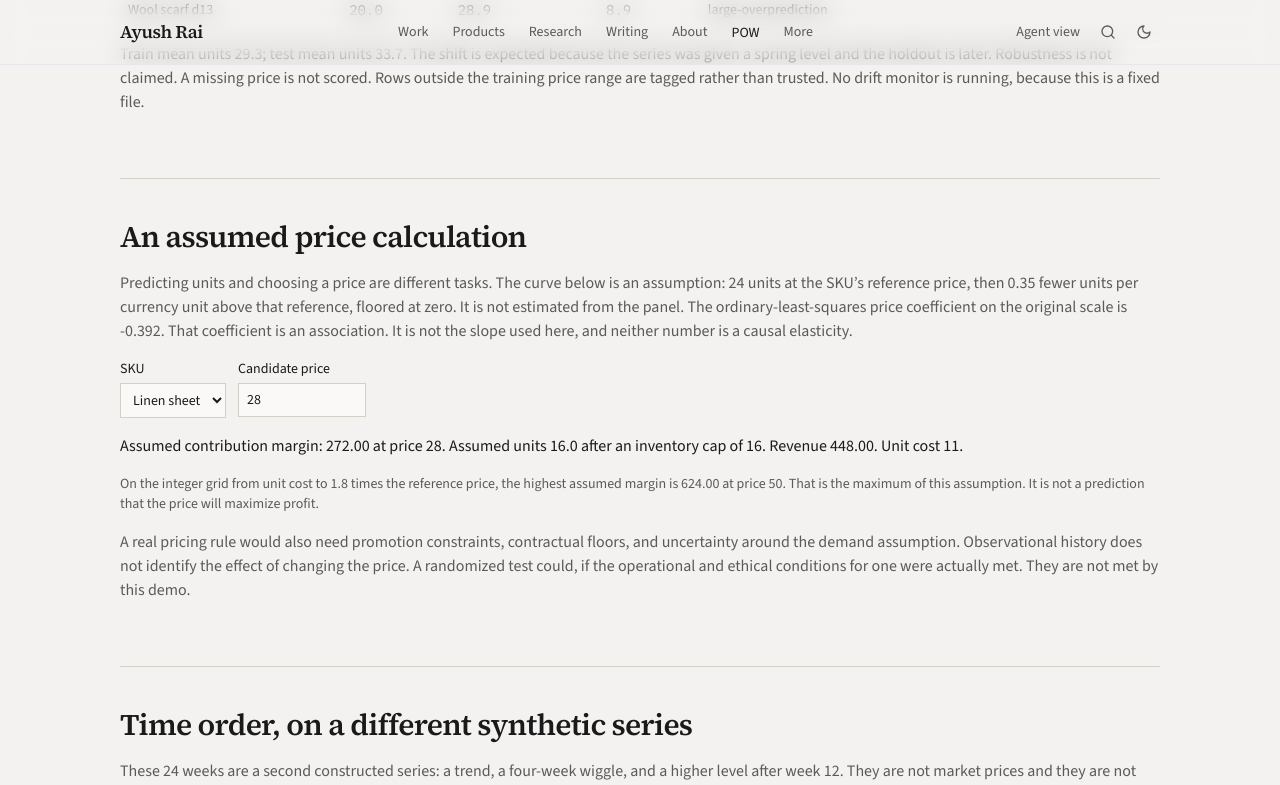
Scenario: AI data scientist page › renders the workbench, links the series, and recalculates the assumed margin
(page scrolled)
expect the text "Assumed contribution margin:" shows "272.00": met, box x1=326 y1=435 x2=370 y2=456
Replace the text in the number field labelled "Candidate price" with "40" at [302, 400], box x1=238 y1=383 x2=366 y2=417
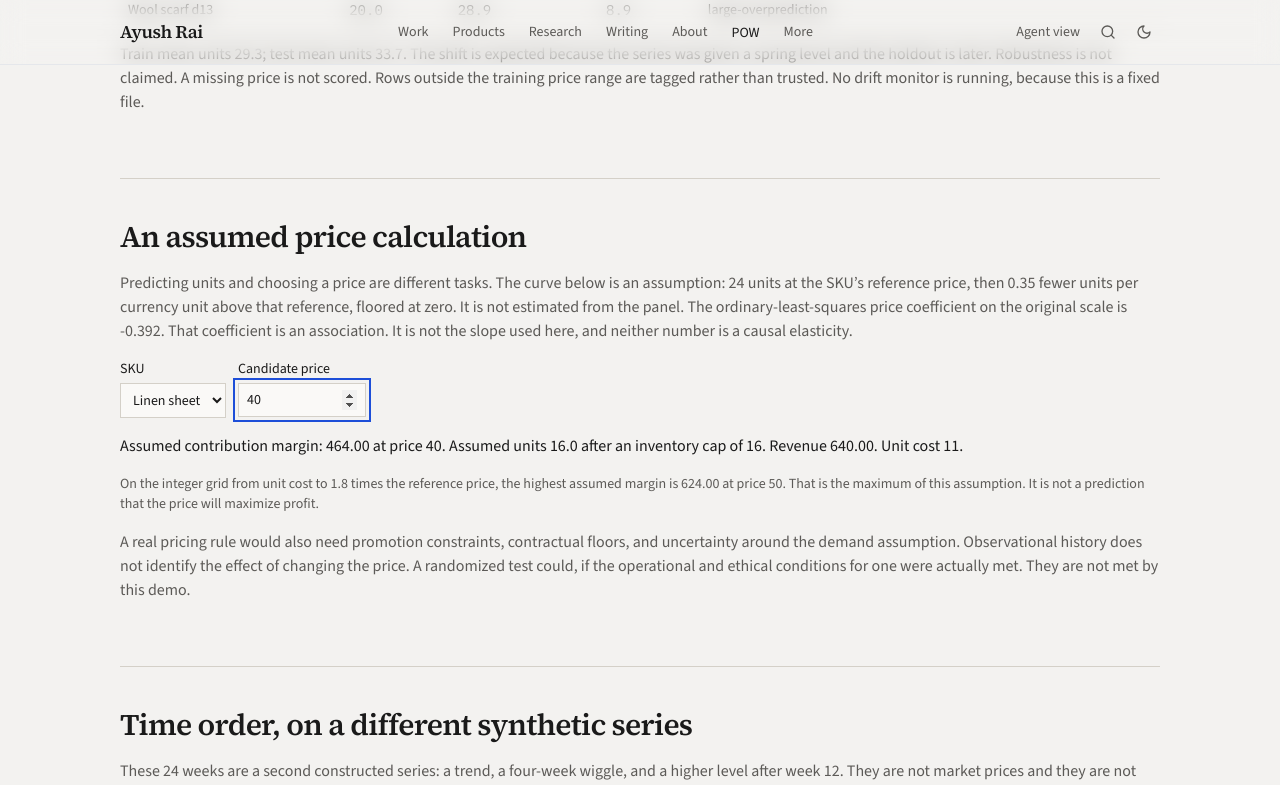
expect the text "Assumed contribution margin:" shows "464.00": met, box x1=326 y1=435 x2=370 y2=456
Select "Oak chair" in the dropdown labelled "SKU" at [173, 400], box x1=120 y1=383 x2=226 y2=418
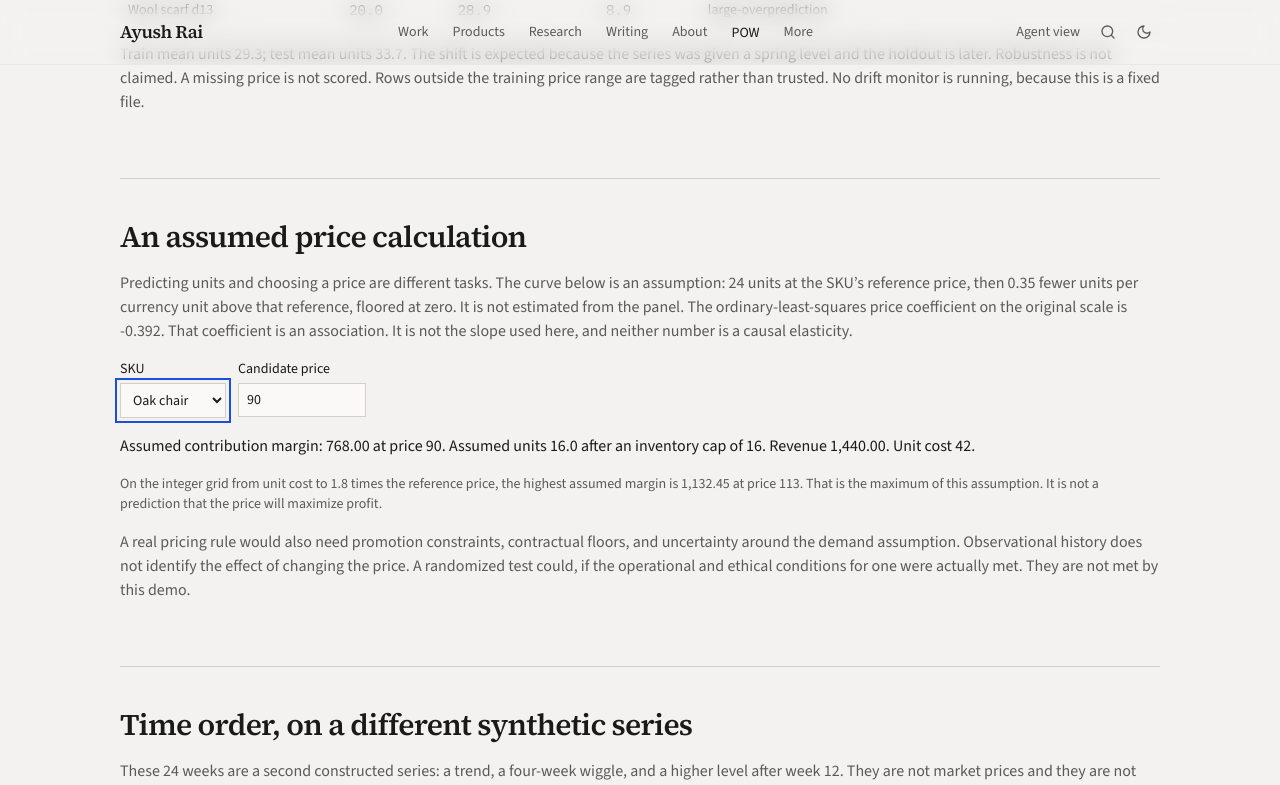
expect the number field labelled "Candidate price" holds "90": met, box x1=238 y1=383 x2=366 y2=417
